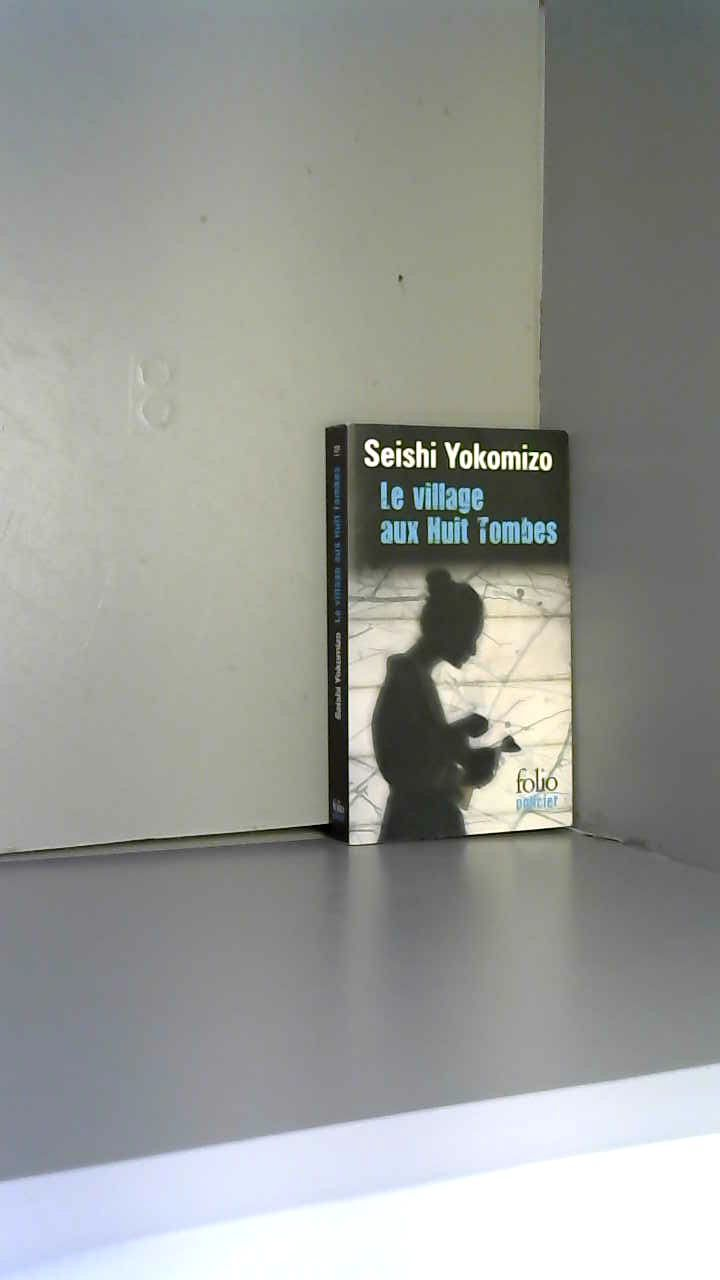book: (309, 407, 591, 858)
